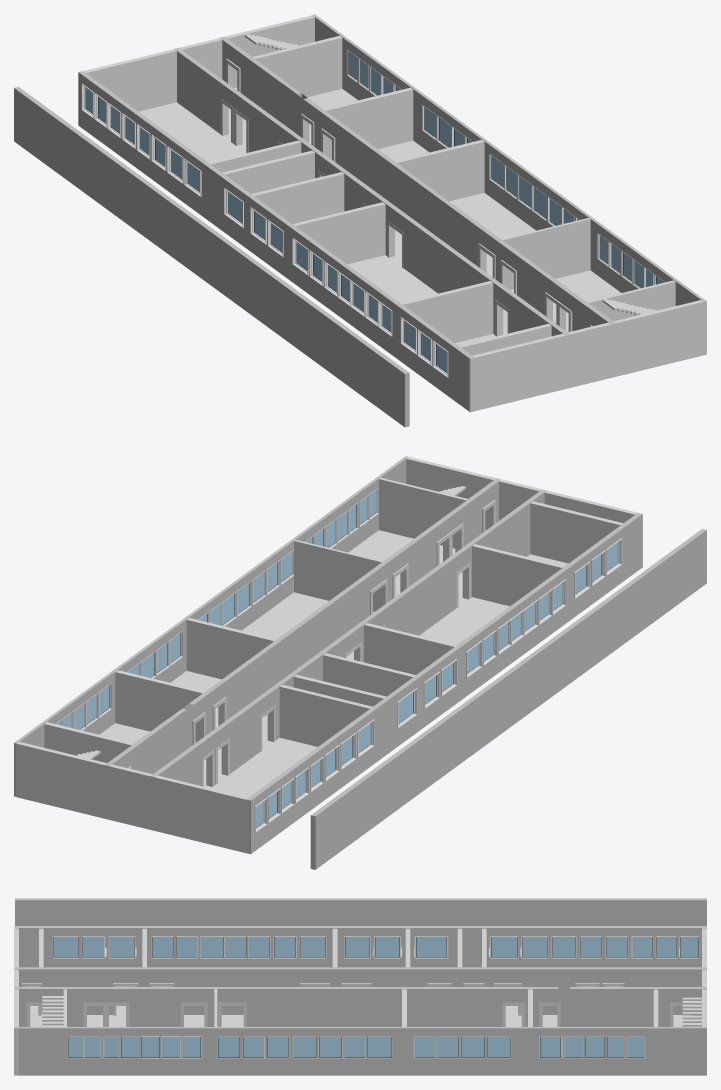
Rendered from 2E Etage non lier.fbx.
3 renders of one model, top to bottom at view 1: azimuth 30°, elevation 25°; view 2: azimuth 150°, elevation 25°; view 3: azimuth 270°, elevation 25°, orthographic. The views are drawn at different scales.
Parts seen in each view (by area): view 1: Façade Arrière, Façade Arrière.004, Façade Gauche, Façade Arrière.006, Façade Avant.001, Couloir Haut, Façade Droite, Sol haut, Sol bas, Autre, Mur 102 - English, Mur 104 - 103 (+11 smaller); view 2: Façade Arrière, Façade Arrière.004, Façade Droite, Façade Arrière.006, Façade Avant.001, Couloir Haut, Sol haut, Sol bas, Façade Gauche, Autre, Mur 105 - Toilettes, Mur English - Toilettes (+12 smaller); view 3: Façade Avant.001, Façade Arrière, Façade Arrière.004, Couloir Haut, Façade Arrière.006, Façade Arrière.007, Façade Arrière.003, Sol couloir$, Façade Arrière.002, Autre 1.001, Window.031, Façade Gauche (+49 smaller).
Part boxes in pixels (x1=…): Façade Arrière: x1=14, y1=86, x2=409, y2=427; Façade Arrière.004: x1=78, y1=71, x2=473, y2=411; Façade Gauche: x1=469, y1=300, x2=706, y2=412; Façade Arrière.006: x1=291, y1=90, x2=587, y2=321; Façade Avant.001: x1=312, y1=14, x2=705, y2=305; Couloir Haut: x1=174, y1=47, x2=569, y2=334; Façade Droite: x1=83, y1=15, x2=314, y2=111; Sol haut: x1=139, y1=102, x2=495, y2=345; Sol bas: x1=307, y1=88, x2=620, y2=332; Autre: x1=177, y1=55, x2=558, y2=336; Mur 102 - English: x1=400, y1=281, x2=493, y2=342; Mur 104 - 103: x1=293, y1=202, x2=385, y2=264; Façade Arrière: x1=310, y1=528, x2=706, y2=869; Façade Arrière.004: x1=246, y1=513, x2=642, y2=853; Façade Droite: x1=16, y1=742, x2=249, y2=853; Façade Arrière.006: x1=181, y1=497, x2=475, y2=753; Façade Avant.001: x1=14, y1=456, x2=407, y2=796; Couloir Haut: x1=150, y1=489, x2=546, y2=785; Sol haut: x1=210, y1=554, x2=568, y2=797; Sol bas: x1=99, y1=530, x2=455, y2=743; Façade Gauche: x1=405, y1=456, x2=642, y2=567; Autre: x1=162, y1=496, x2=544, y2=779; Mur 105 - Toilettes: x1=279, y1=684, x2=372, y2=746; Mur English - Toilettes: x1=530, y1=501, x2=622, y2=563; Façade Avant.001: x1=15, y1=1027, x2=706, y2=1075; Façade Arrière: x1=15, y1=898, x2=706, y2=947; Façade Arrière.004: x1=15, y1=926, x2=706, y2=967; Couloir Haut: x1=15, y1=967, x2=706, y2=1014; Façade Arrière.006: x1=60, y1=987, x2=569, y2=1026; Façade Arrière.007: x1=15, y1=987, x2=706, y2=1026; Façade Arrière.003: x1=244, y1=989, x2=416, y2=1002; Sol couloir$: x1=30, y1=1013, x2=689, y2=1026; Façade Arrière.002: x1=346, y1=1003, x2=502, y2=1026; Autre 1.001: x1=570, y1=987, x2=595, y2=1026; Window.031: x1=414, y1=936, x2=448, y2=958; Façade Gauche: x1=14, y1=926, x2=18, y2=1075.
Size of the model in its own units: 12.73 by 2.18 by 28.64.
